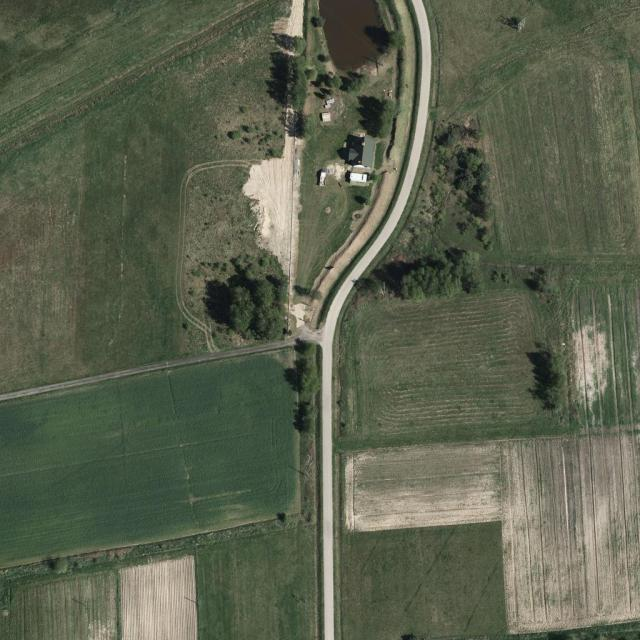agricultural_land: (332, 288, 562, 447), (571, 262, 640, 429)
building: (345, 131, 375, 183)
dryland: (237, 104, 306, 309), (316, 0, 388, 73), (285, 0, 305, 37)
greenland: (344, 113, 640, 418), (296, 22, 400, 291), (181, 164, 286, 348)
metalled_road: (0, 336, 298, 402), (300, 329, 320, 342)
